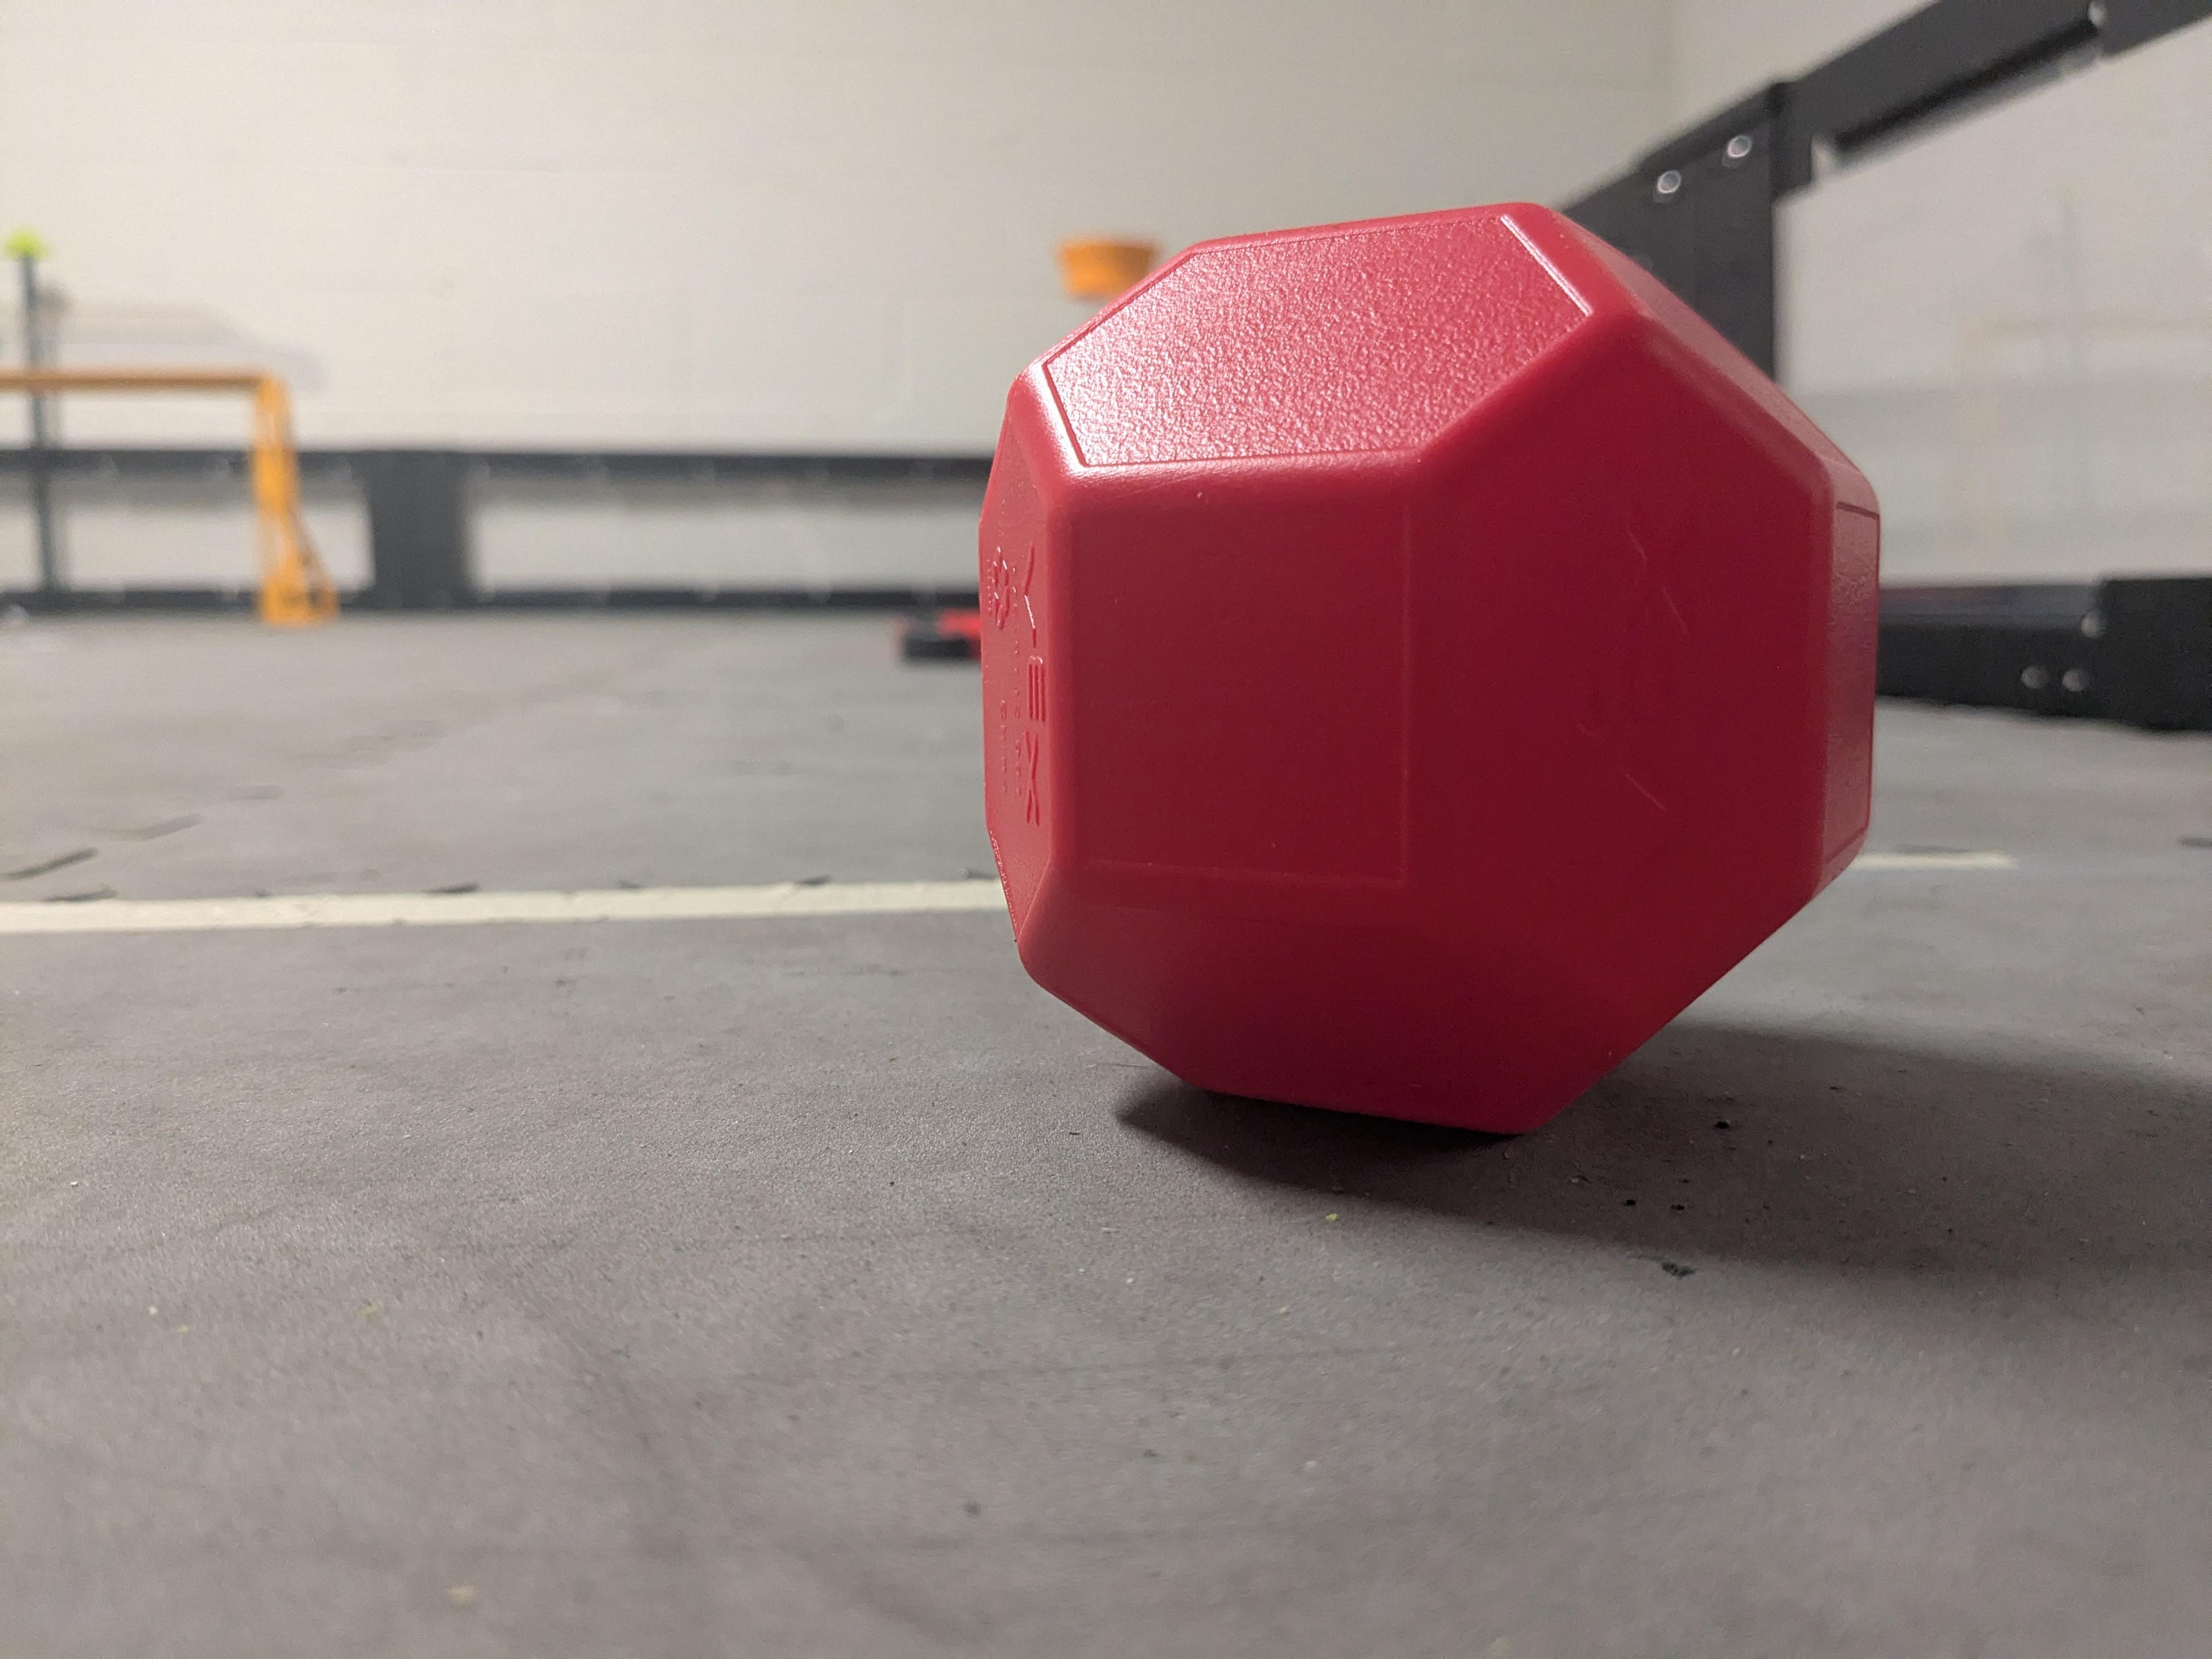Vex-Pieces-RED: (981, 204, 1879, 1131)
